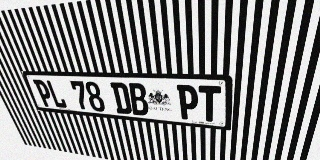7: (69, 81, 92, 111)
8: (83, 81, 106, 112)
B: (127, 83, 150, 116)
D: (110, 82, 133, 114)
L: (45, 80, 68, 109)
P: (177, 85, 198, 121), (33, 79, 55, 107)
T: (198, 85, 221, 122)
